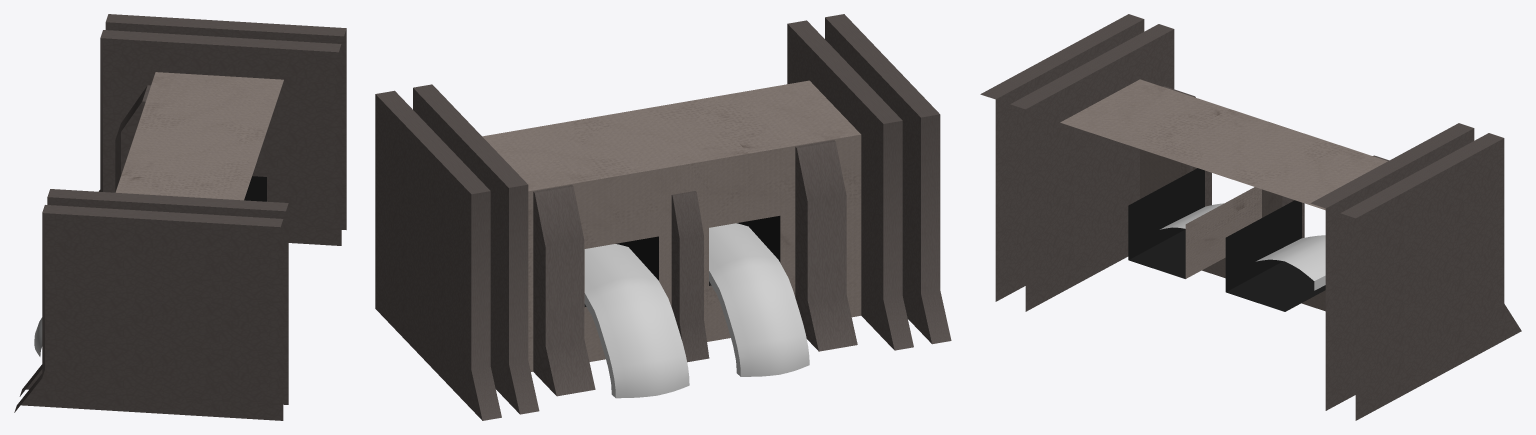
Rendered from HydroDam.fbx.
3 renders of one model, left to right at view 1: azimuth 30°, elevation 25°; view 2: azimuth 150°, elevation 25°; view 3: azimuth 270°, elevation 25°, orthographic. The views are drawn at different scales.
Parts seen in each view (by area): view 1: pCube5, pCube1, pCube2, pCube4, pCube3, pCube6; view 2: pCube2, pCube3, pCube4, pCube1, pCube5, pCube9, pCube10, pCube6, pCube7, pCube8; view 3: pCube2, pCube3, pCube4, pCube5, pCube1, pCube9.
Part boxes in pixels (left/top/right/bottom): pCube5: left=14, top=205, right=283, bottom=420; pCube1: left=100, top=30, right=341, bottom=245; pCube2: left=115, top=72, right=283, bottom=201; pCube4: left=19, top=189, right=288, bottom=404; pCube3: left=99, top=14, right=346, bottom=229; pCube6: left=115, top=85, right=150, bottom=192; pCube2: left=482, top=80, right=861, bottom=371; pCube3: left=375, top=90, right=501, bottom=420; pCube4: left=787, top=20, right=913, bottom=350; pCube1: left=413, top=84, right=539, bottom=414; pCube5: left=825, top=14, right=951, bottom=344; pCube9: left=584, top=244, right=689, bottom=398; pCube10: left=709, top=223, right=809, bottom=376; pCube6: left=533, top=185, right=595, bottom=396; pCube7: left=795, top=140, right=857, bottom=351; pCube8: left=671, top=191, right=709, bottom=362; pCube2: left=1060, top=79, right=1387, bottom=311; pCube3: left=1340, top=133, right=1521, bottom=420; pCube4: left=1010, top=24, right=1174, bottom=311; pCube5: left=980, top=14, right=1144, bottom=301; pCube1: left=1310, top=123, right=1474, bottom=410; pCube9: left=1256, top=235, right=1325, bottom=290.
Bounding box in the file's own units: 57.82 × 26.01 × 61.9.
